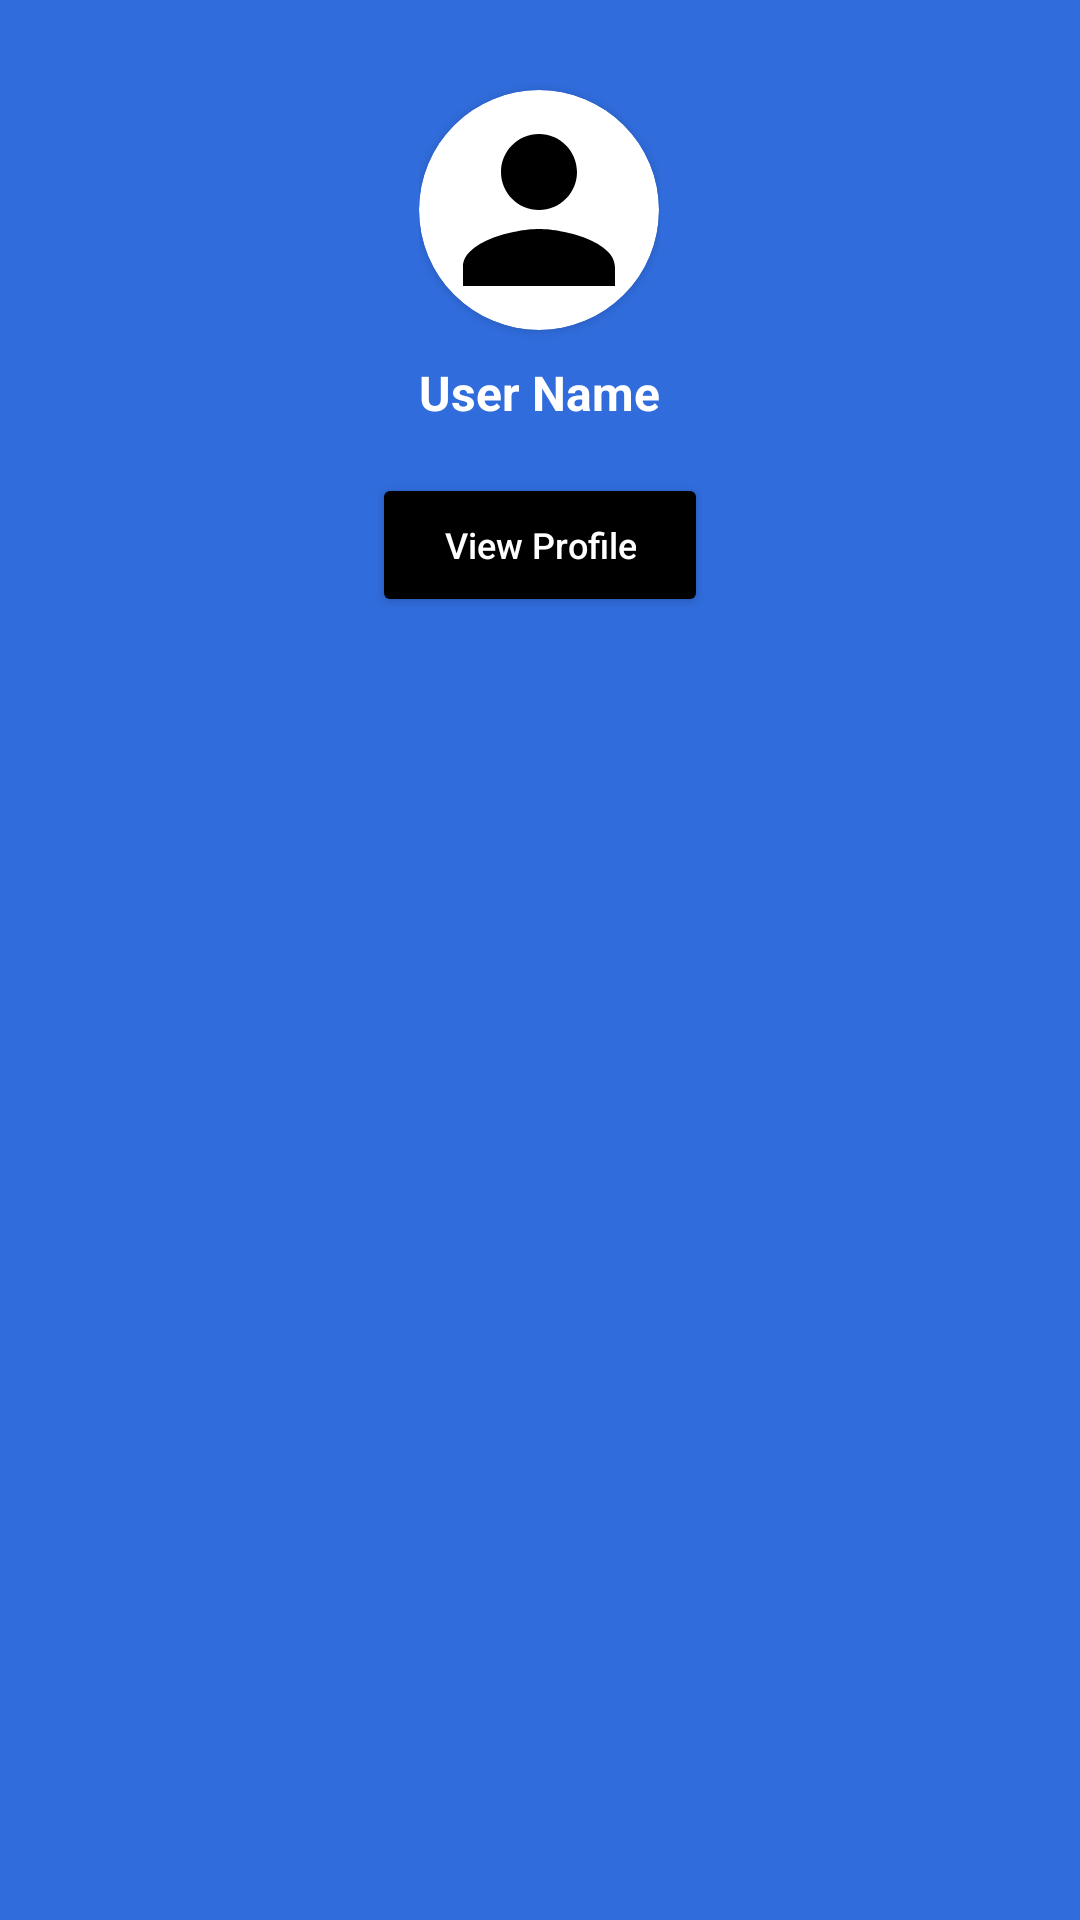

Icon click points for this 1080w x 1920h phone screenshot, format (x=x, y=y):
person: (x=539, y=210)
